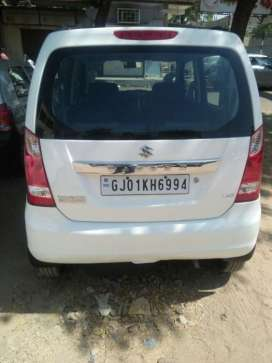license_plate: (99, 176, 191, 195)
